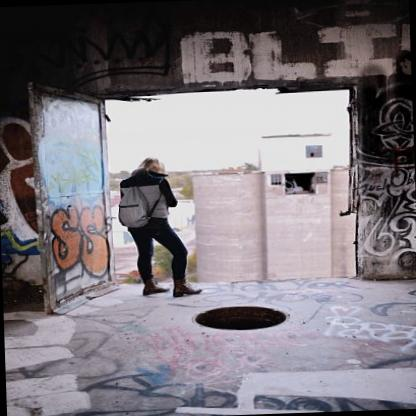manholes: (178, 290, 307, 343)
